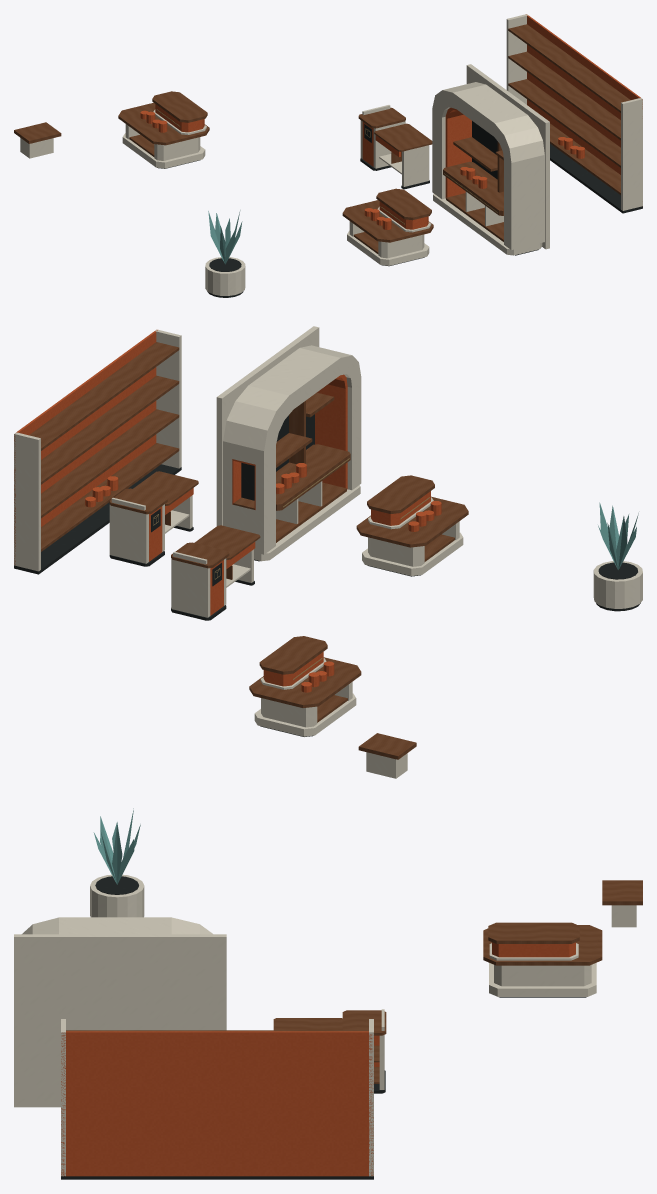
The model's file is SHOP_D09_S100_A366__fitout.glb.
The picture shows the model from 3 angles, top to bottom: view 1: azimuth 30°, elevation 25°; view 2: azimuth 150°, elevation 25°; view 3: azimuth 270°, elevation 25°; orthographic projection. The views are drawn at different scales.
Visible parts, largest first — view 1: SHOP_D09_S100_A366__fitout__ivory_enamel, SHOP_D09_S100_A366__fitout__warm_walnut, SHOP_D09_S100_A366__fitout__retail_terracotta_enamel, SHOP_D09_S100_A366__fitout__dark_rubber, SHOP_D09_S100_A366__fitout__quiet_teal; view 2: SHOP_D09_S100_A366__fitout__ivory_enamel, SHOP_D09_S100_A366__fitout__warm_walnut, SHOP_D09_S100_A366__fitout__retail_terracotta_enamel, SHOP_D09_S100_A366__fitout__dark_rubber, SHOP_D09_S100_A366__fitout__quiet_teal; view 3: SHOP_D09_S100_A366__fitout__retail_terracotta_enamel, SHOP_D09_S100_A366__fitout__ivory_enamel, SHOP_D09_S100_A366__fitout__warm_walnut, SHOP_D09_S100_A366__fitout__dark_rubber, SHOP_D09_S100_A366__fitout__quiet_teal.
Boxes of the visible parts, x1,y1,x2,y2 form: SHOP_D09_S100_A366__fitout__ivory_enamel: [20, 14, 642, 295]; SHOP_D09_S100_A366__fitout__warm_walnut: [14, 24, 630, 253]; SHOP_D09_S100_A366__fitout__retail_terracotta_enamel: [140, 14, 642, 229]; SHOP_D09_S100_A366__fitout__dark_rubber: [157, 121, 642, 297]; SHOP_D09_S100_A366__fitout__quiet_teal: [208, 210, 242, 264]; SHOP_D09_S100_A366__fitout__ivory_enamel: [14, 326, 642, 778]; SHOP_D09_S100_A366__fitout__warm_walnut: [29, 342, 468, 759]; SHOP_D09_S100_A366__fitout__retail_terracotta_enamel: [14, 330, 441, 692]; SHOP_D09_S100_A366__fitout__dark_rubber: [14, 414, 640, 736]; SHOP_D09_S100_A366__fitout__quiet_teal: [598, 502, 638, 570]; SHOP_D09_S100_A366__fitout__retail_terracotta_enamel: [61, 942, 575, 1176]; SHOP_D09_S100_A366__fitout__ivory_enamel: [14, 874, 636, 1176]; SHOP_D09_S100_A366__fitout__warm_walnut: [66, 880, 642, 1083]; SHOP_D09_S100_A366__fitout__dark_rubber: [61, 876, 586, 1179]; SHOP_D09_S100_A366__fitout__quiet_teal: [93, 808, 140, 884].
Bounding box in the file's own units: 10.28 × 3 × 10.05.
6 materials, 5 textured.
